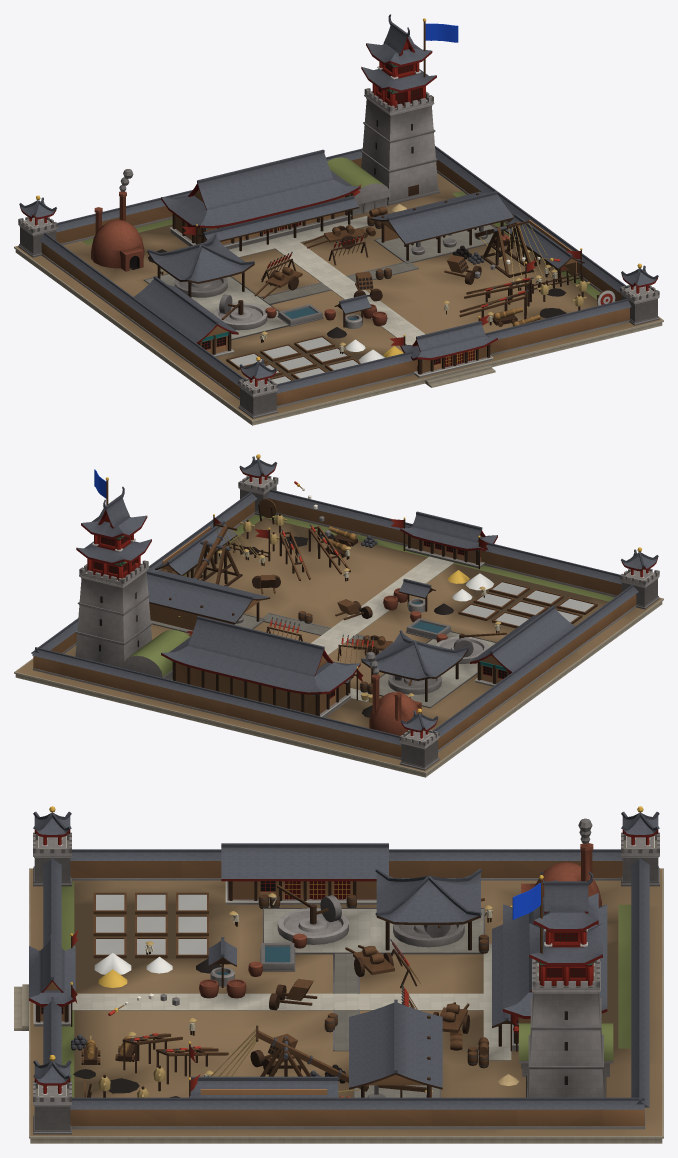
Rendered from lm_barutatolye.glb.
3 views of the same model, one above another, from view 1: azimuth 30°, elevation 25°; view 2: azimuth 150°, elevation 25°; view 3: azimuth 270°, elevation 25° (orthographic). The views are drawn at different scales.
Parts seen in each view (by area): view 1: lm_barutatolye; view 2: lm_barutatolye; view 3: lm_barutatolye.
Part boxes in pixels (<box>): lm_barutatolye: <box>14,14,663,425</box>; lm_barutatolye: <box>14,454,663,777</box>; lm_barutatolye: <box>14,806,663,1143</box>.
Size of the model in its own units: 2.31 by 0.957 by 2.37.
Materials: 1 (1 with a texture image).
